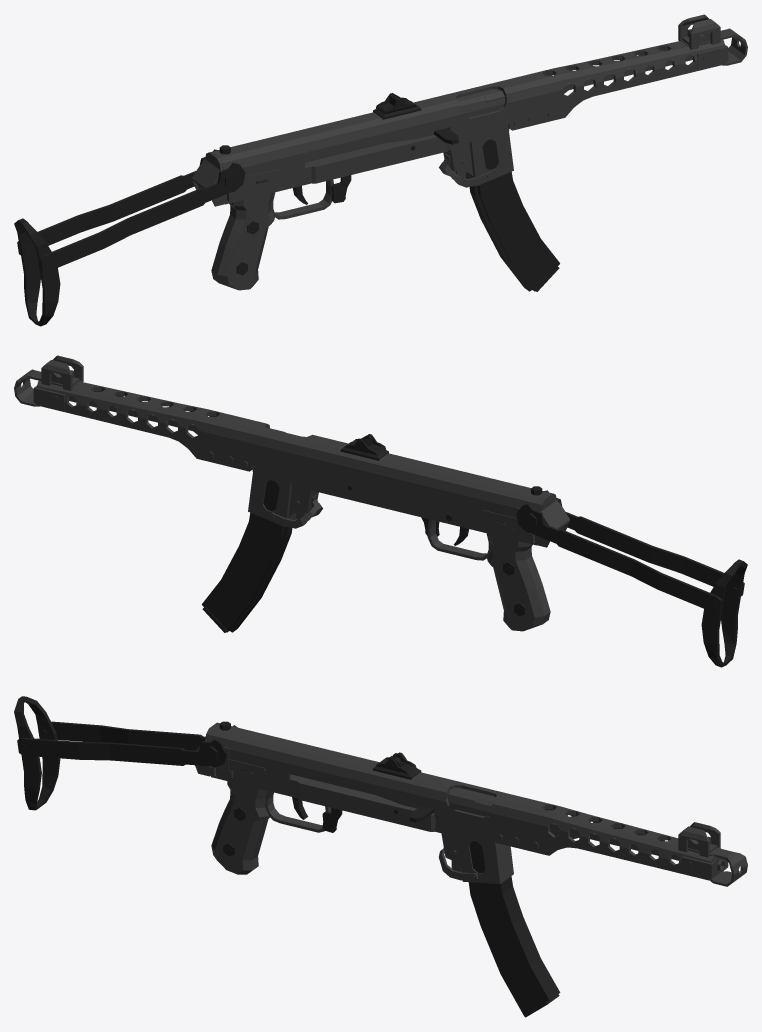
The model's file is PPS-43.fbx.
The picture shows the model from 3 angles, top to bottom: view 1: azimuth 30°, elevation 25°; view 2: azimuth 150°, elevation 25°; view 3: azimuth 330°, elevation 25°; orthographic projection.
Parts seen in each view (by area): view 1: Cube.007; view 2: Cube.007; view 3: Cube.007.
Part boxes in pixels (x1=…): Cube.007: x1=14, y1=14, x2=747, y2=326; Cube.007: x1=14, y1=355, x2=747, y2=667; Cube.007: x1=14, y1=696, x2=747, y2=1017.
Size of the model in its own units: 81.11 by 6.56 by 24.62.
